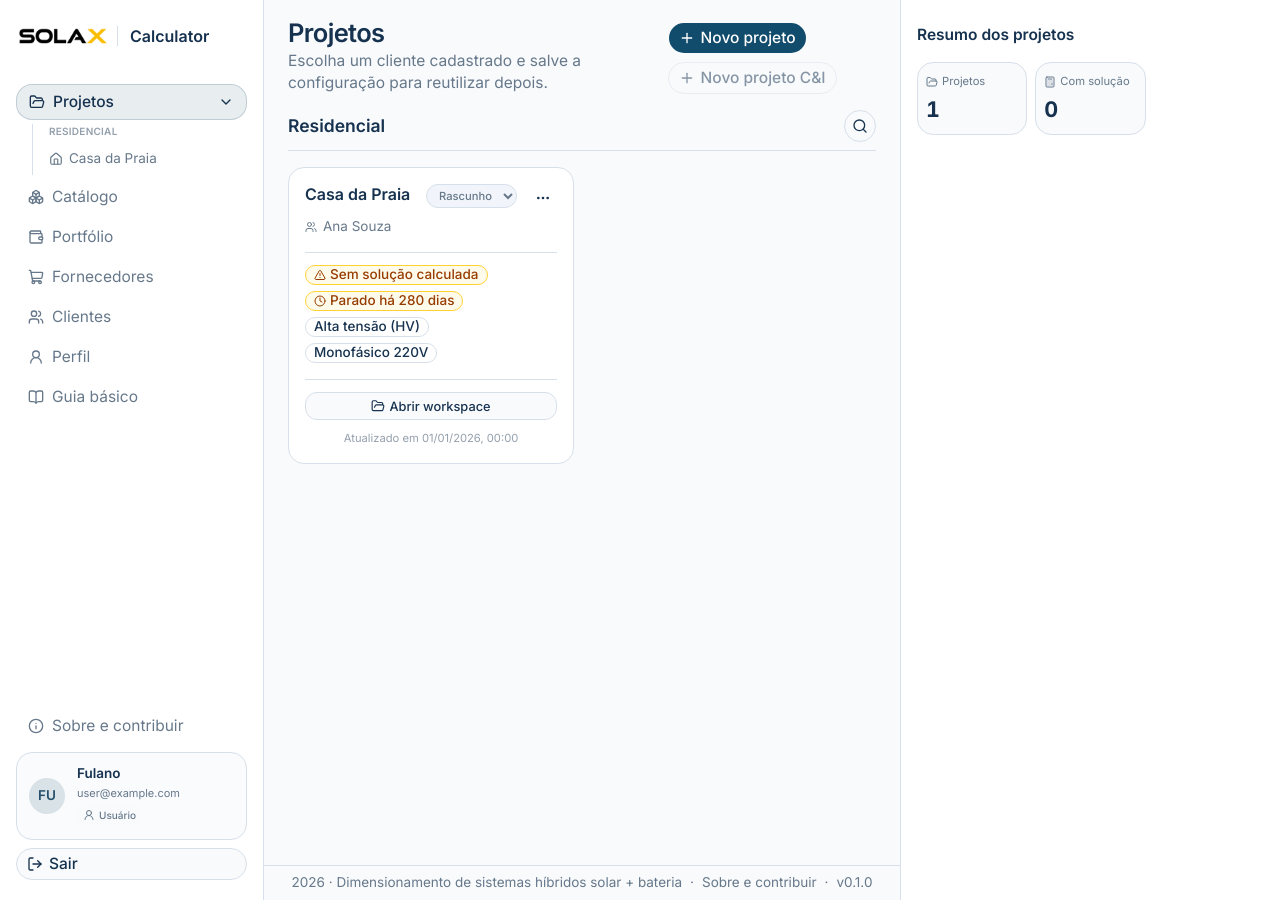
Test case: SinglePageApp: login-gated navigation › opens a project from its client in Clientes, landing in its workspace
Expected: the heading "Projetos" is shown, [288,17,384,48]
Step 1. Click the button "Clientes" → (132, 317), box [16,299,247,335]
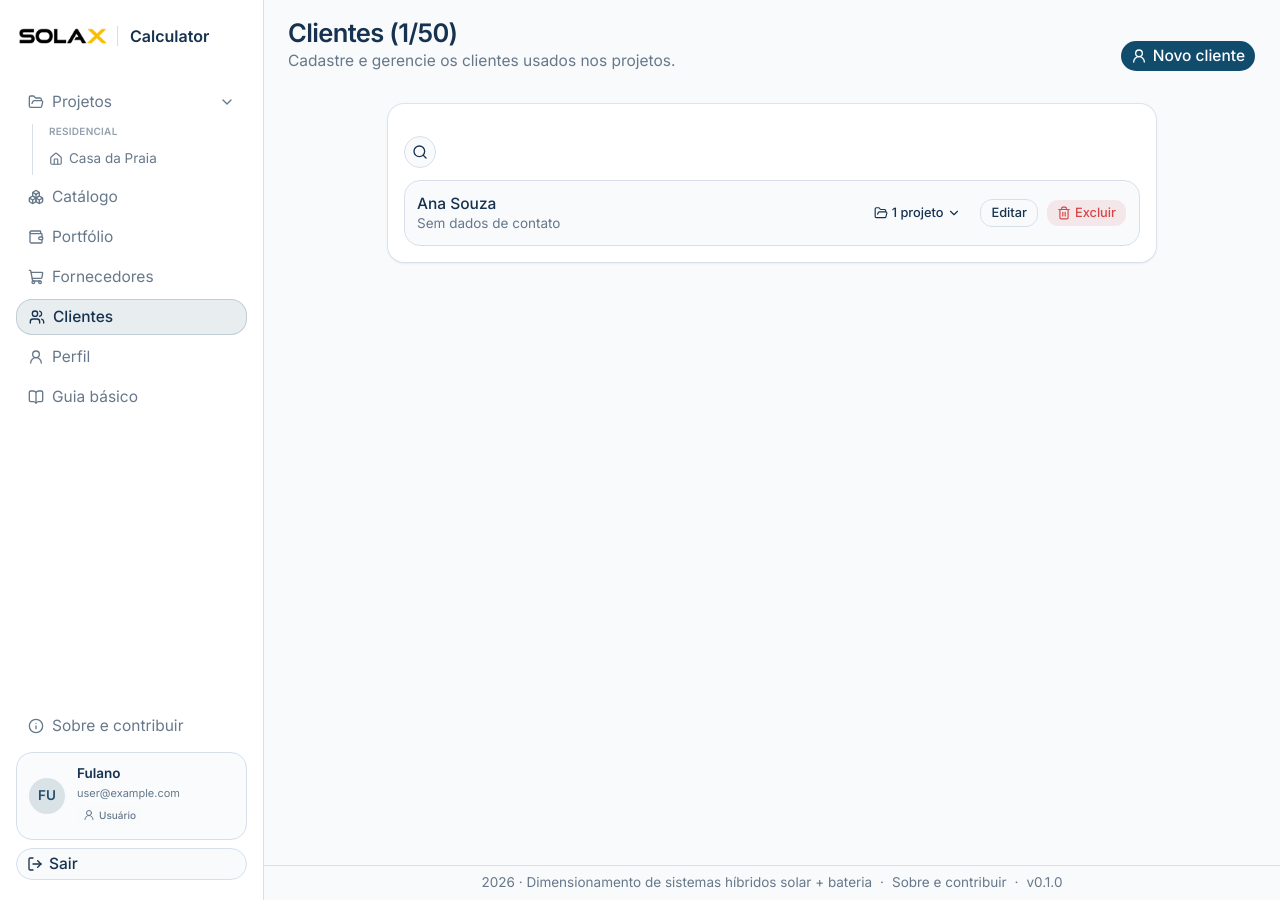
Now the heading "Clientes (1/50)" is shown, box [288,17,458,48]
Step 2. Click the button "1 projeto" → (918, 213), box [863,199,972,227]
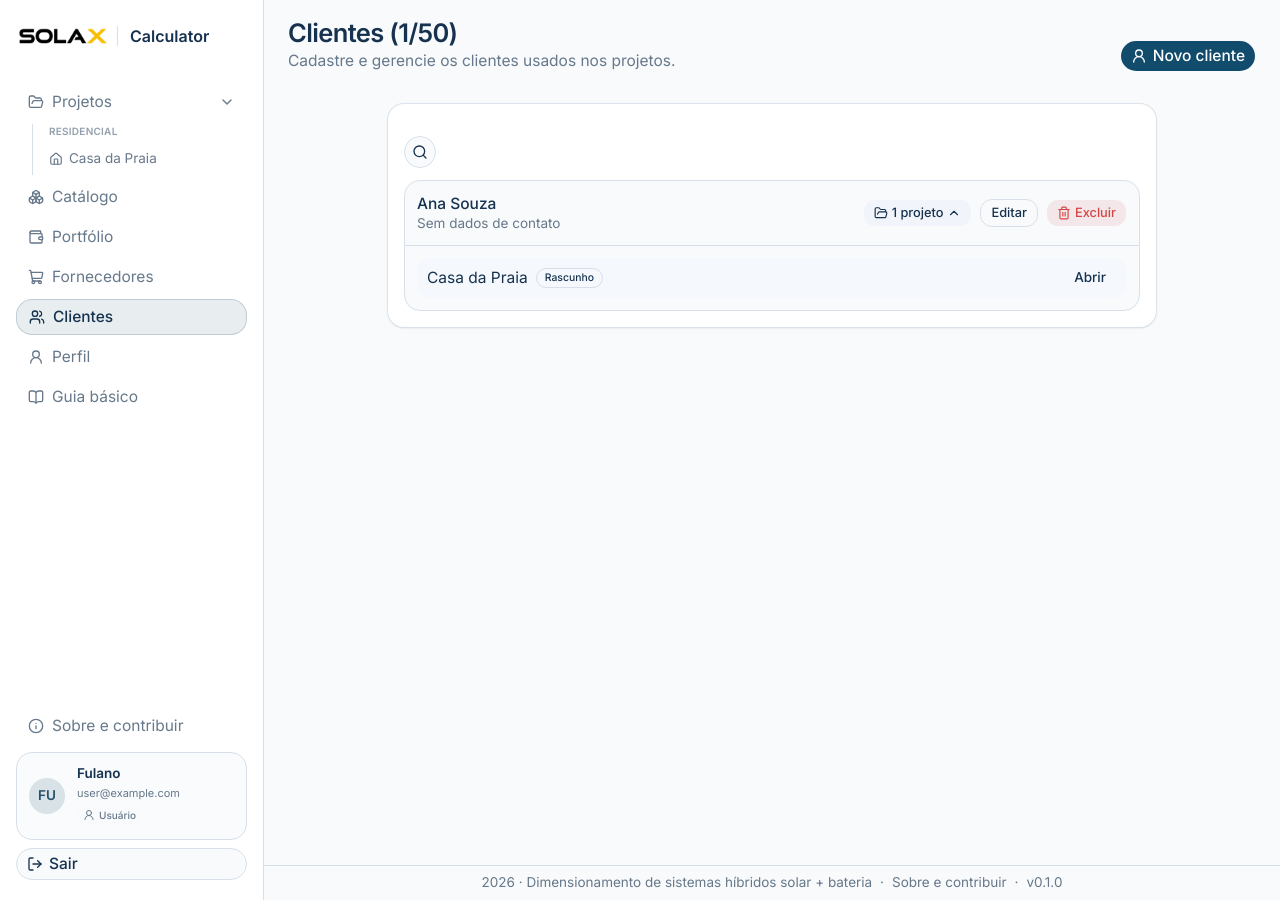
Step 3. Click the button "Abrir" → (1090, 278), box [1063,264,1117,292]
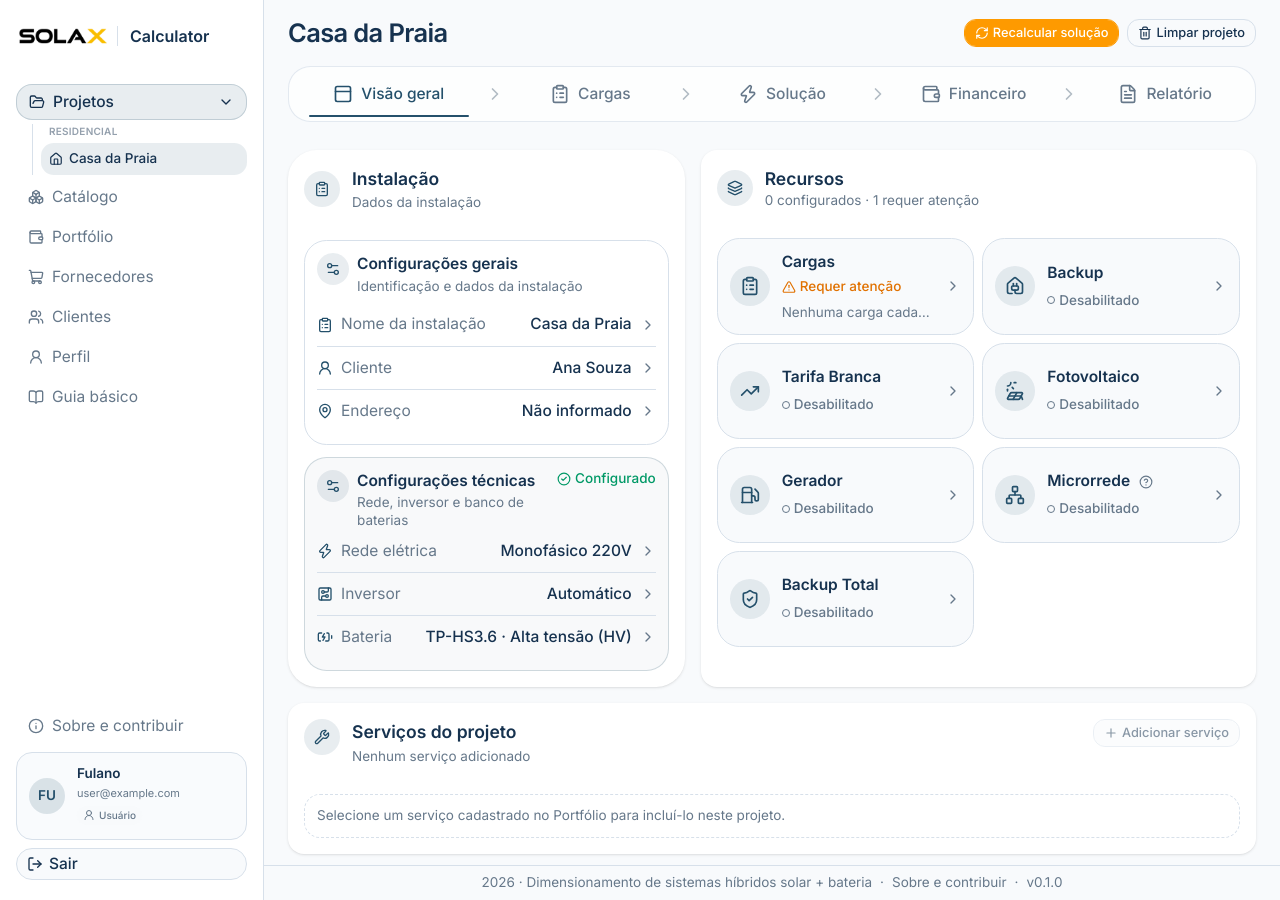
Now the heading "Casa da Praia" is shown, box [288,16,448,50]
